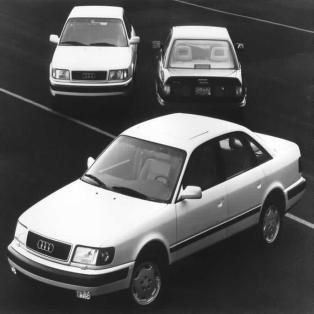Auto: (7, 110, 306, 311)
